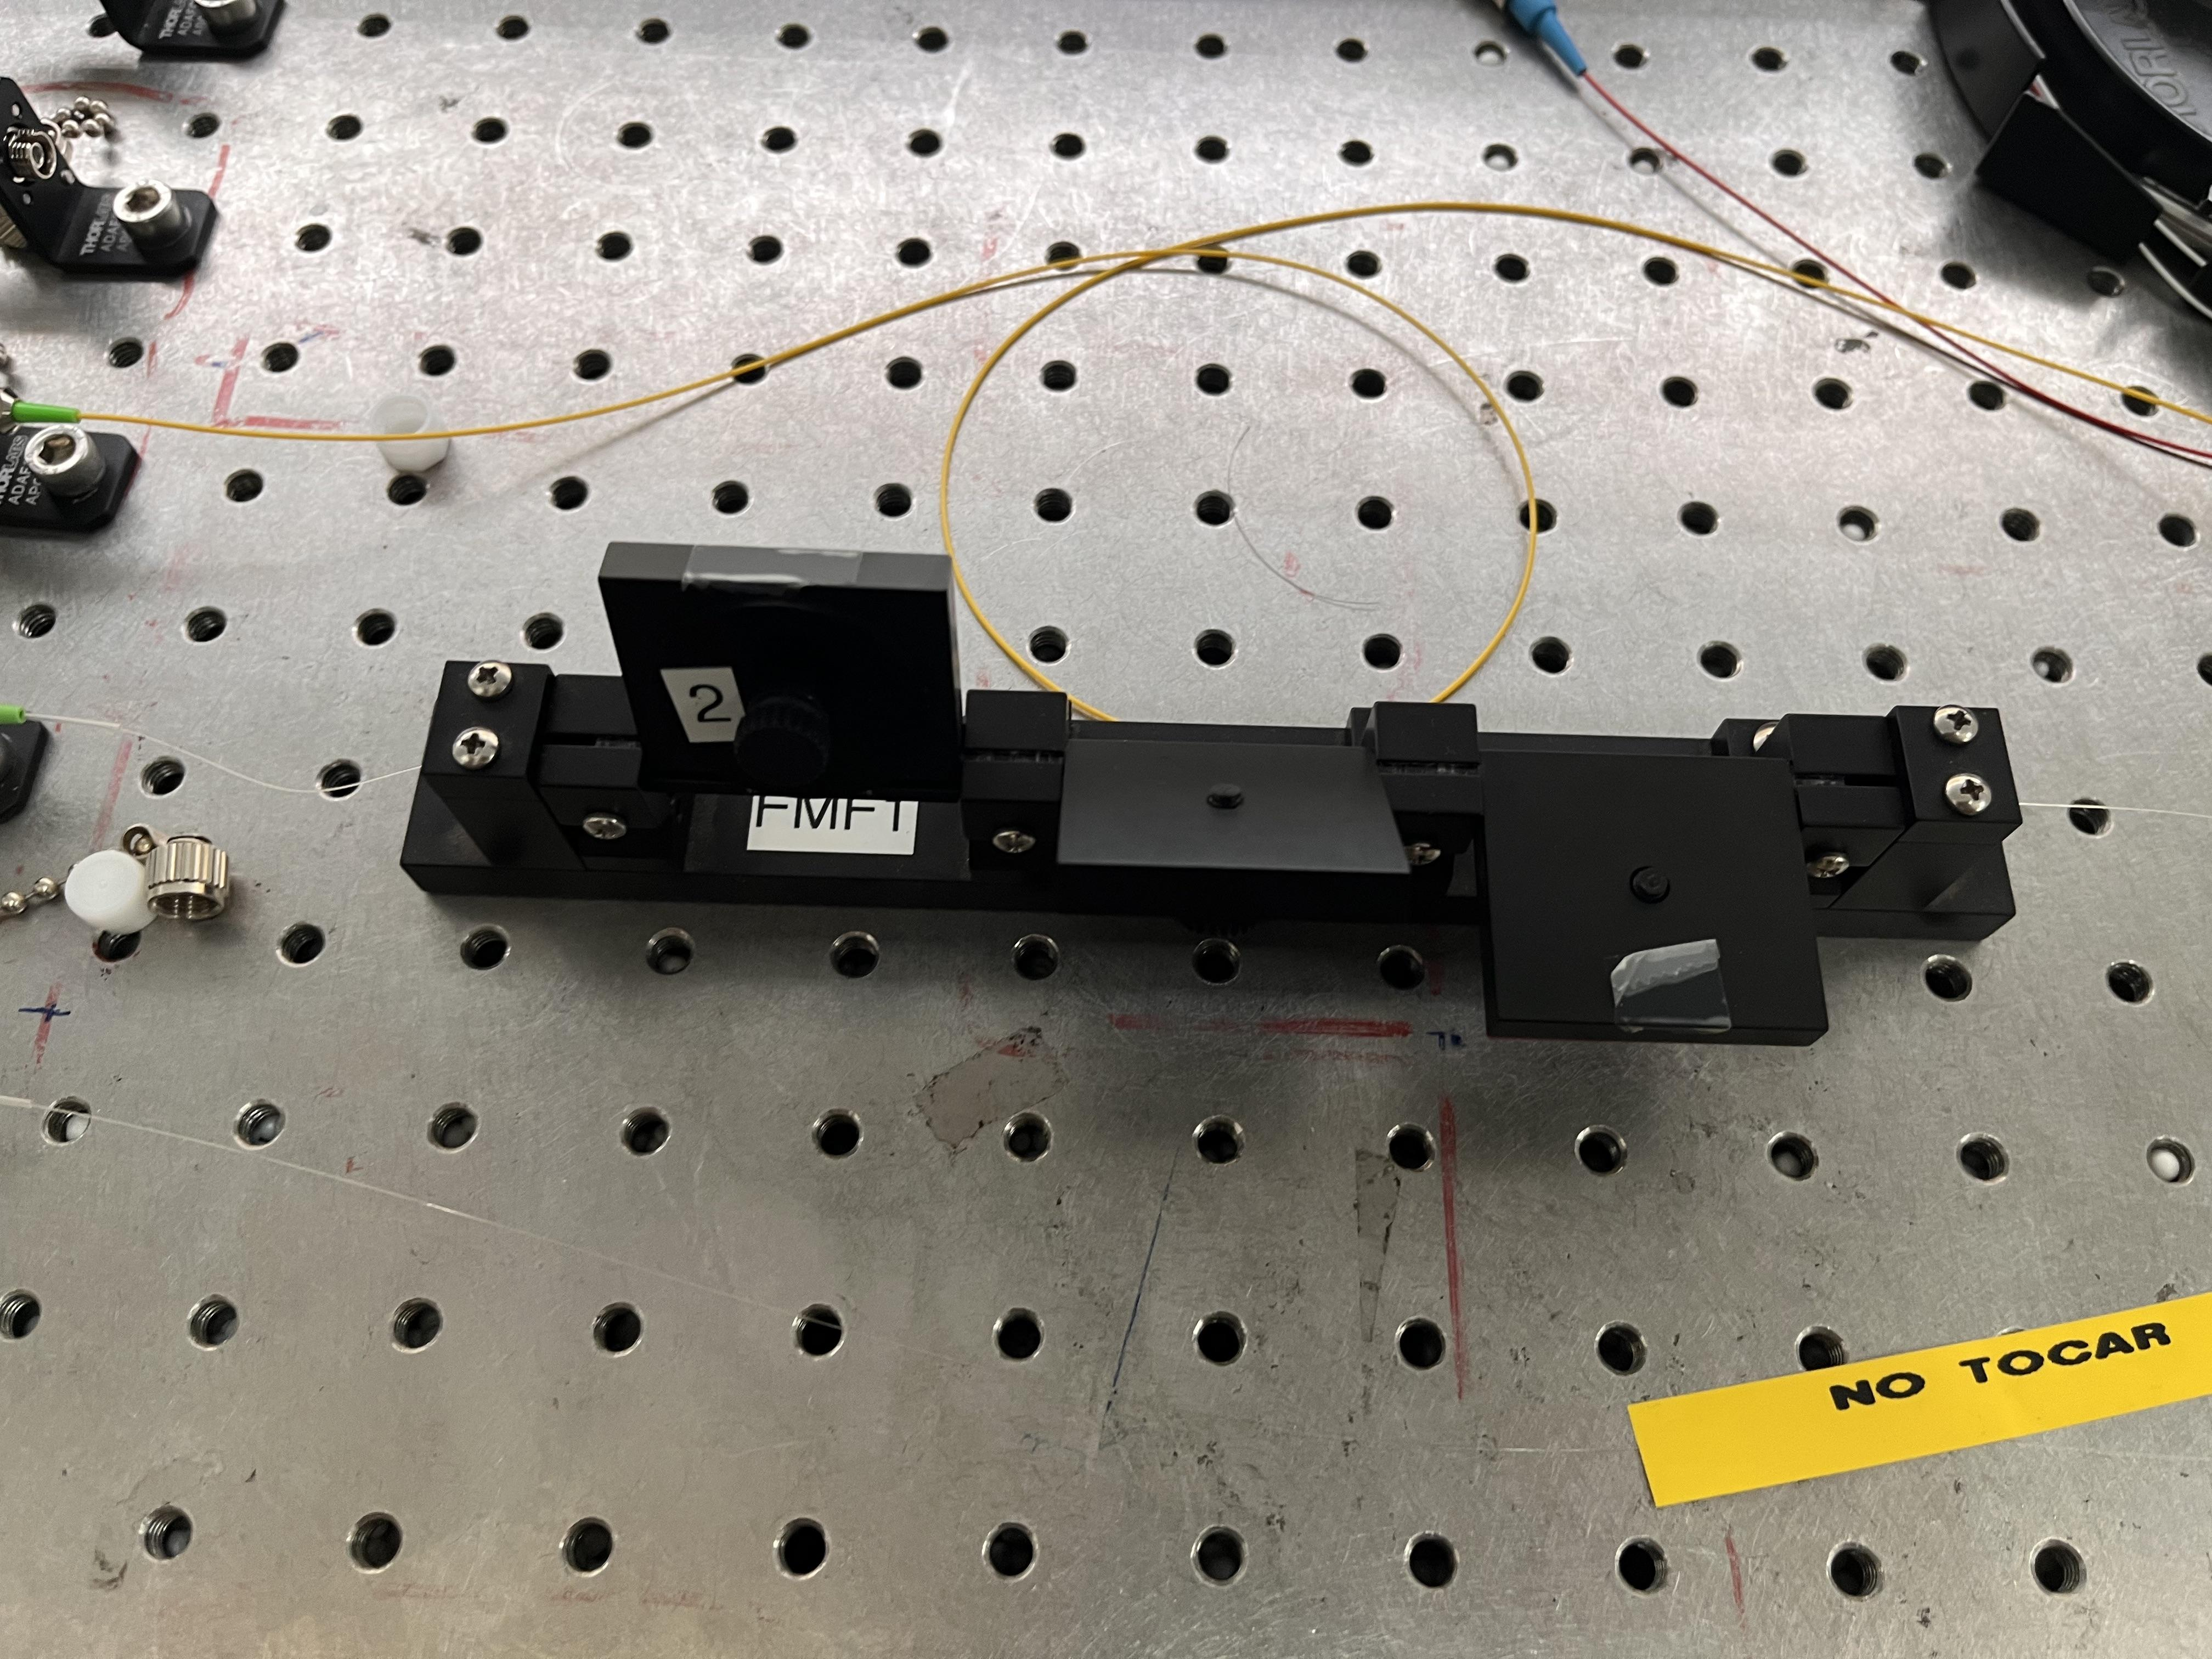paddle_polarization_controller: (394, 537, 2029, 1049)
